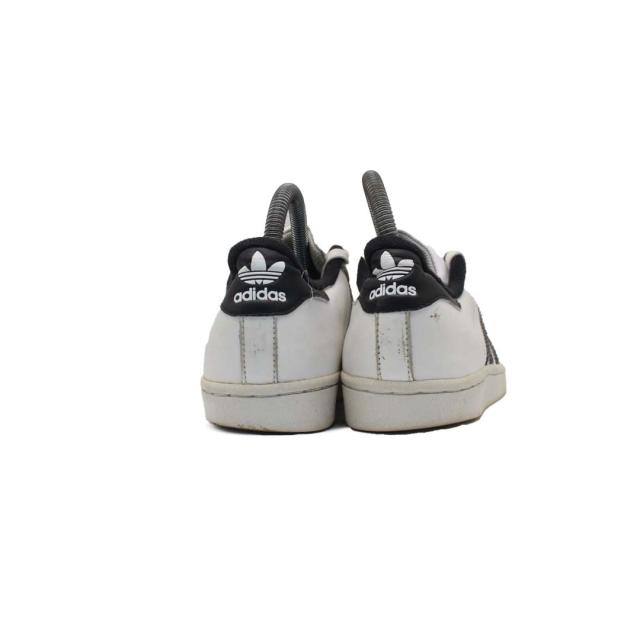heel: (198, 195, 334, 382), (350, 224, 483, 380)
midsole: (182, 381, 484, 437)
